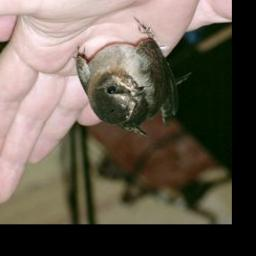Swallow: (73, 14, 195, 139)
